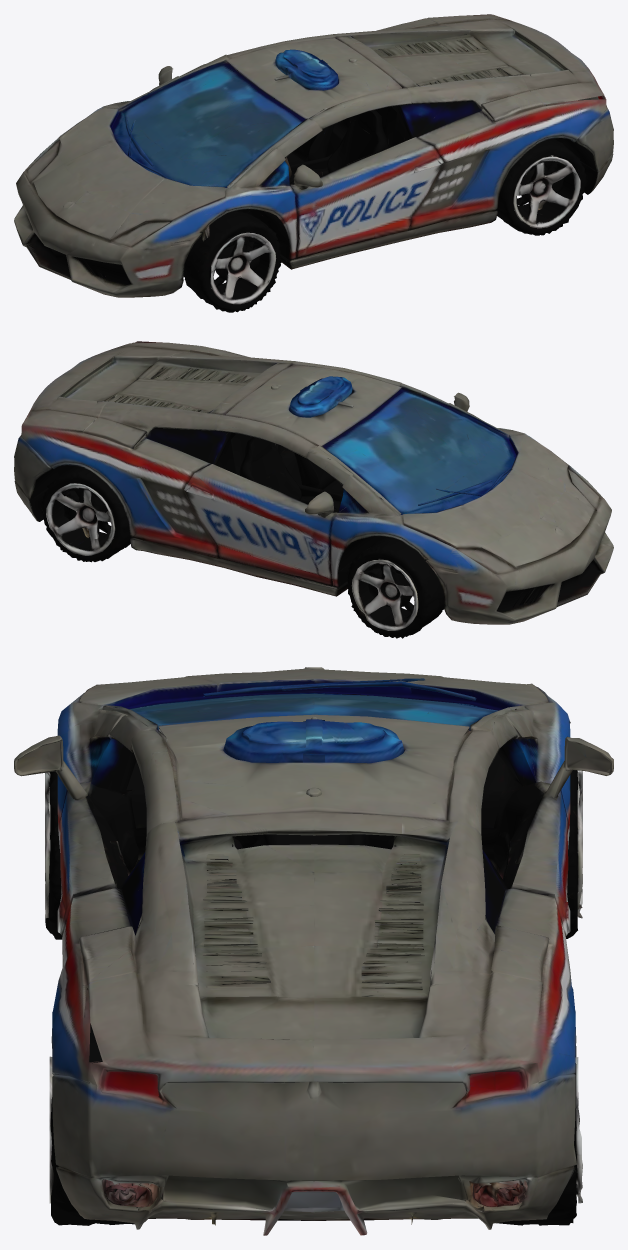
The model's file is gallardo_police.glb.
3 views of the same model, one above another, from view 1: azimuth 30°, elevation 25°; view 2: azimuth 150°, elevation 25°; view 3: azimuth 270°, elevation 25° (orthographic). The views are drawn at different scales.
Bounding box in the file's own units: 0.9502 × 0.2861 × 0.4751.
1 material, 1 textured.
